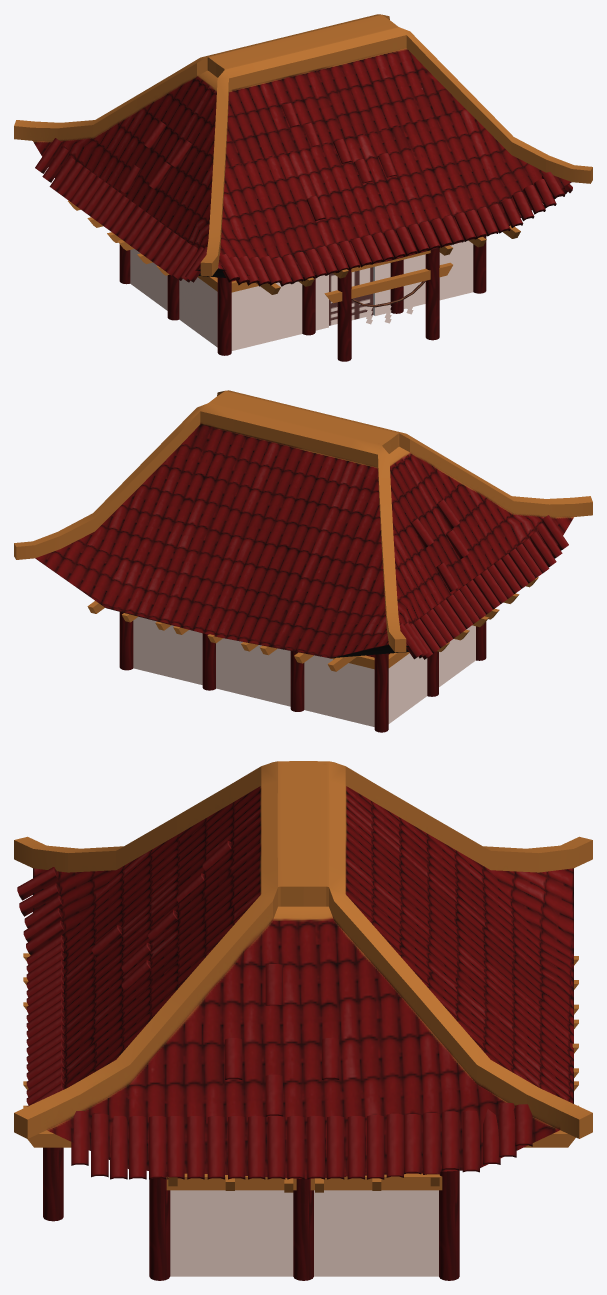
File: Temple.fbx
3 views of the same model, one above another, from view 1: azimuth 30°, elevation 25°; view 2: azimuth 150°, elevation 25°; view 3: azimuth 270°, elevation 25° (orthographic). The views are drawn at different scales.
Visible parts, largest first — view 1: Temple; view 2: Temple; view 3: Temple.
Boxes of the visible parts, x1=… form: Temple: x1=14, y1=14, x2=592, y2=361; Temple: x1=14, y1=390, x2=592, y2=732; Temple: x1=14, y1=761, x2=592, y2=1280.
Size of the model in its own units: 1882 by 1119 by 1628.
